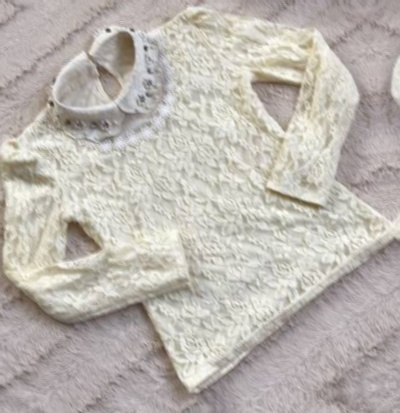Blouse: (0, 0, 400, 394), (368, 0, 400, 343)
